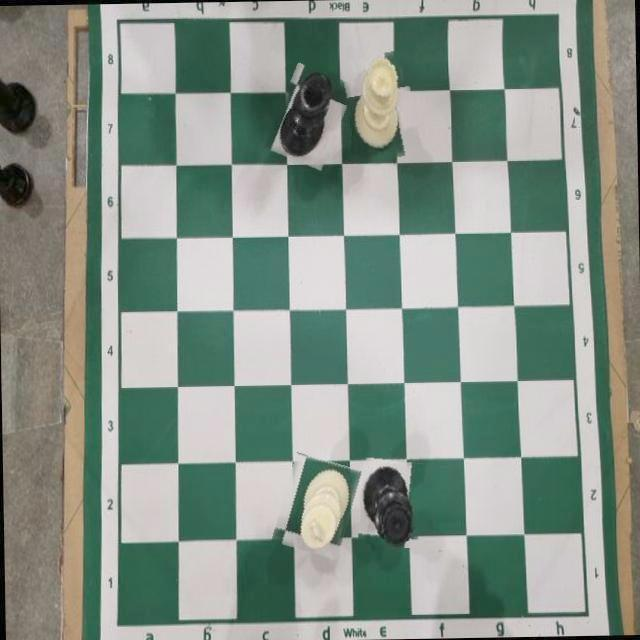chess-table-corners: (99, 605, 142, 635), (562, 595, 604, 625), (538, 4, 573, 27), (102, 10, 132, 34)
